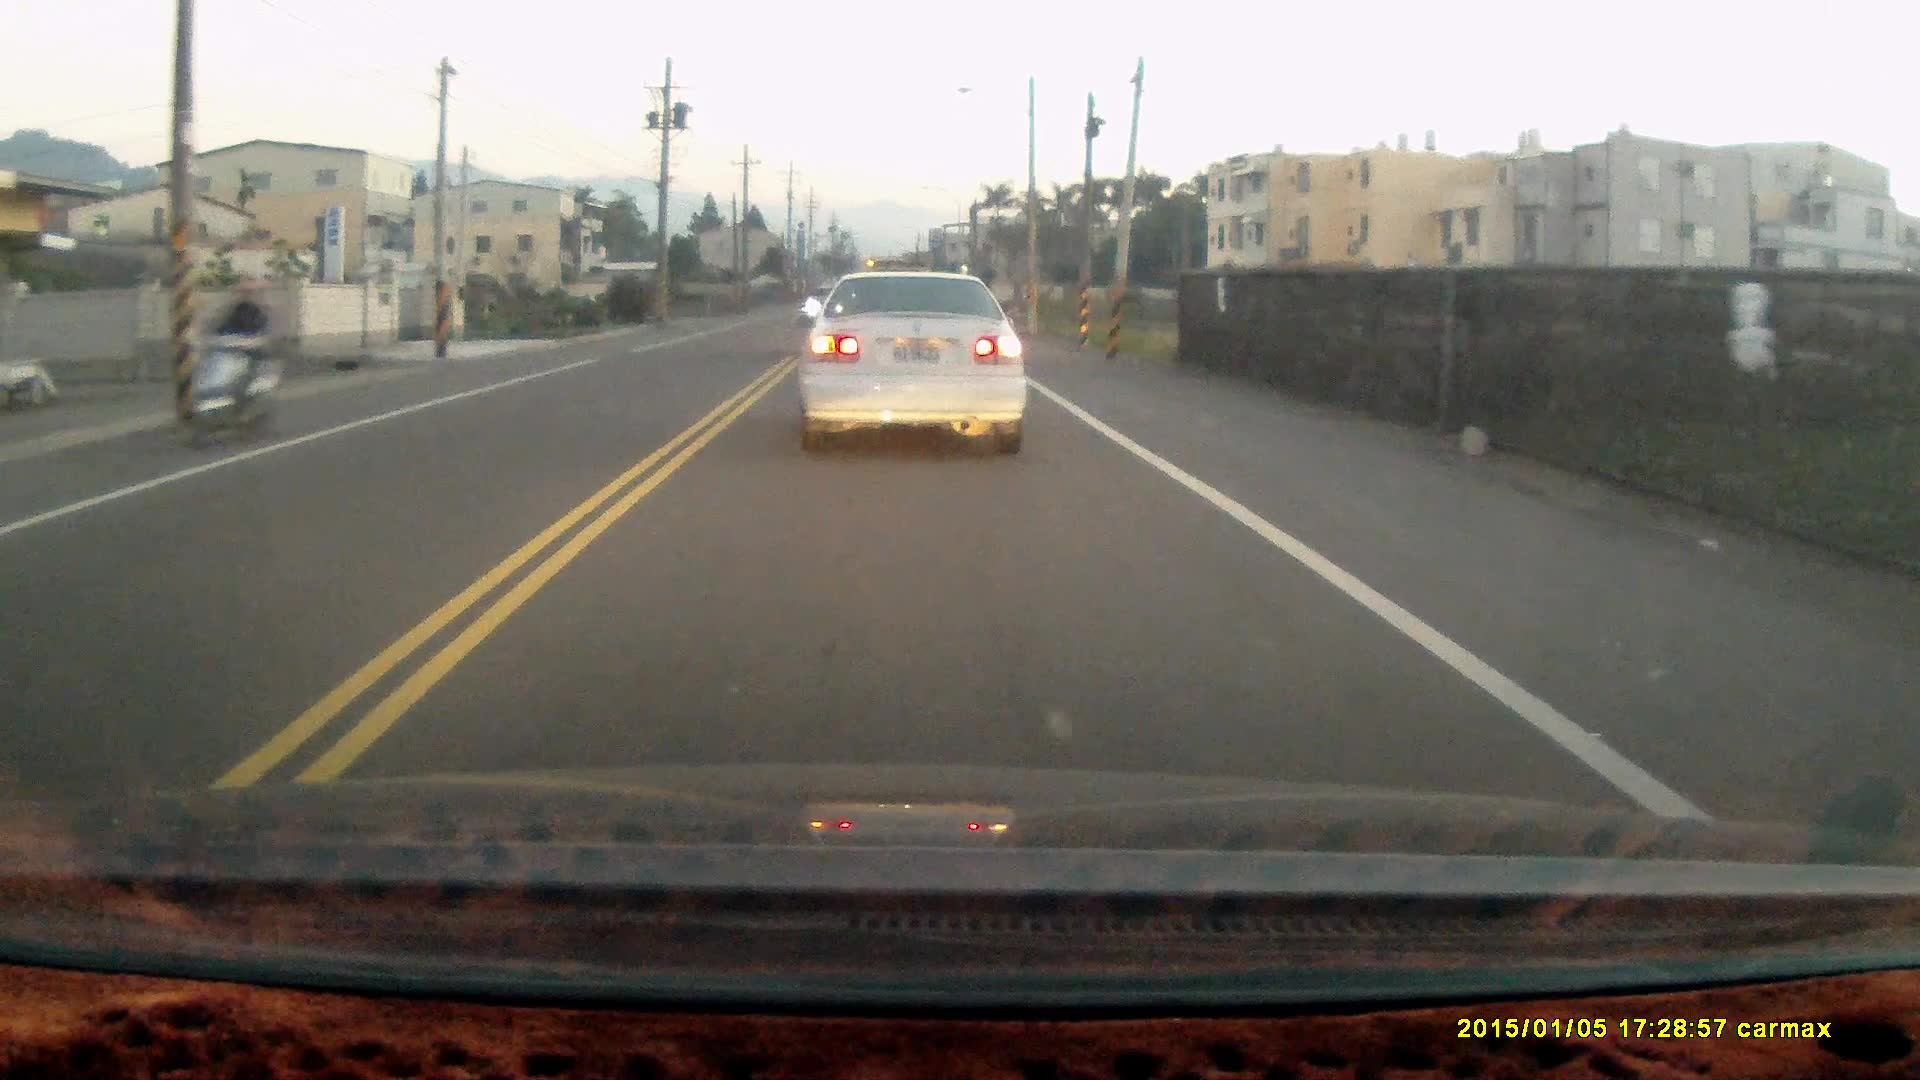rider: (179, 277, 279, 455)
vehicle: (795, 269, 1030, 459)
